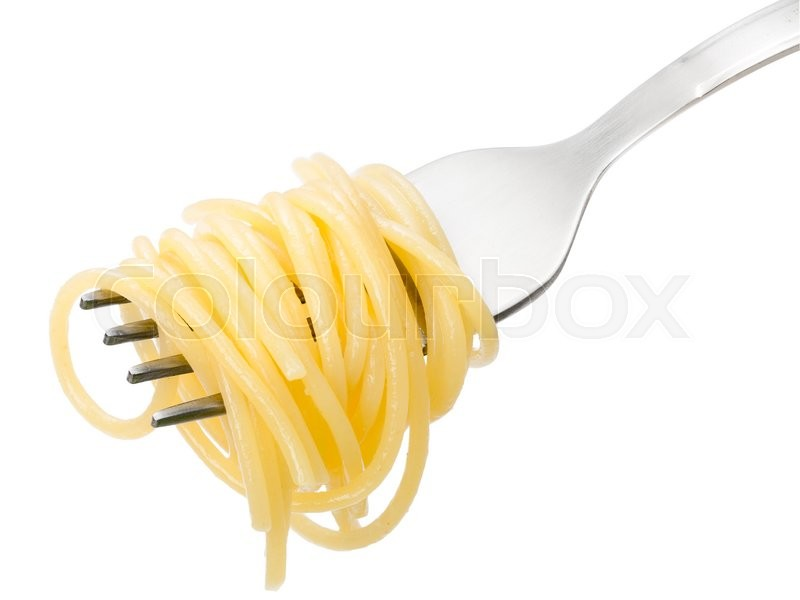plain spaghetti: (49, 166, 475, 530)
